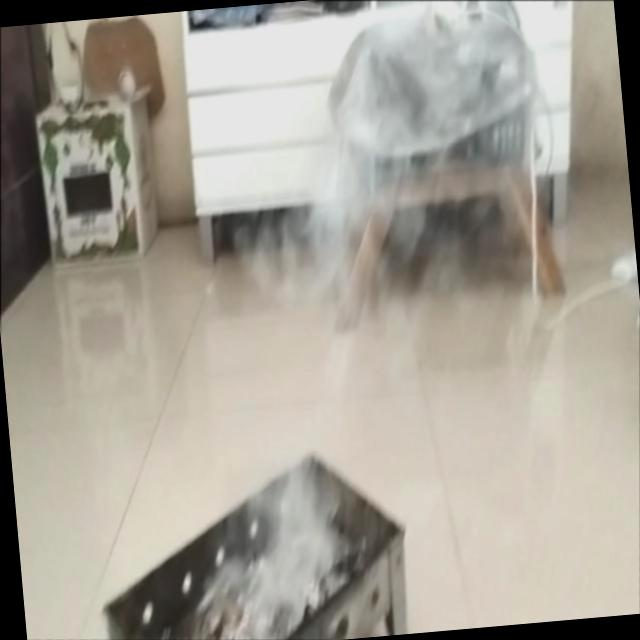smoke: (206, 11, 494, 626)
